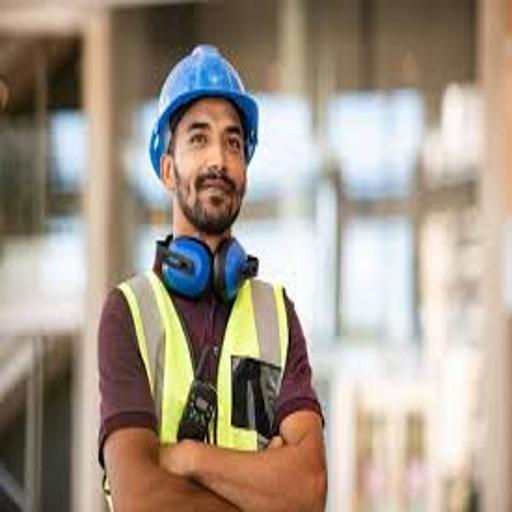Ear_protector: (160, 225, 242, 313)
Hard_hat: (131, 34, 278, 168)
Humans: (59, 170, 361, 512)
Vest: (94, 255, 295, 512)
